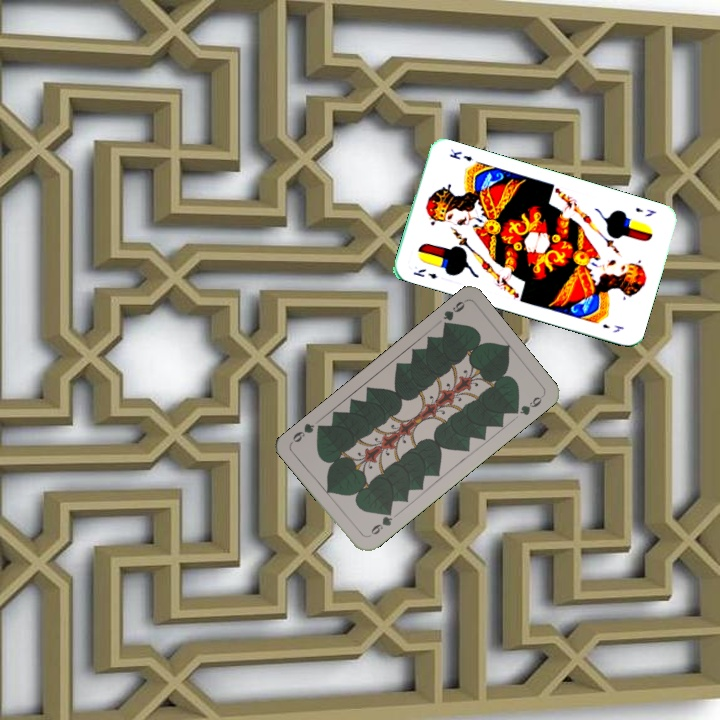EK: (409, 265, 439, 282), (631, 203, 659, 219)
G9: (439, 296, 468, 332), (364, 507, 395, 539)
